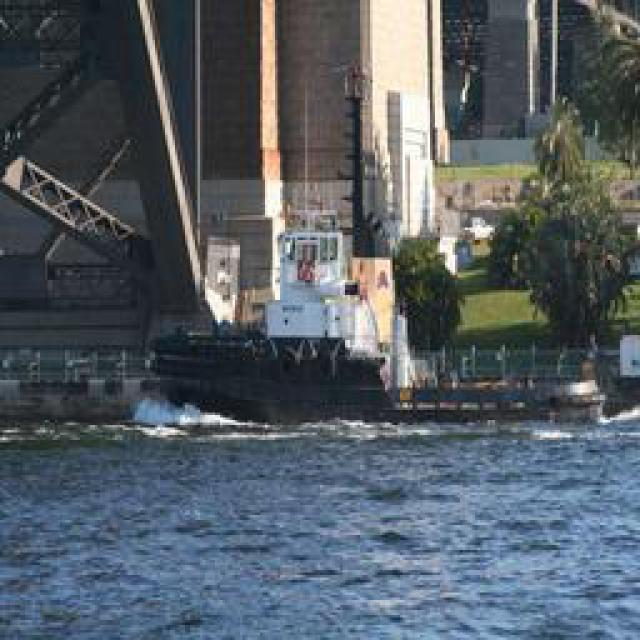Ship: (134, 193, 617, 445)
